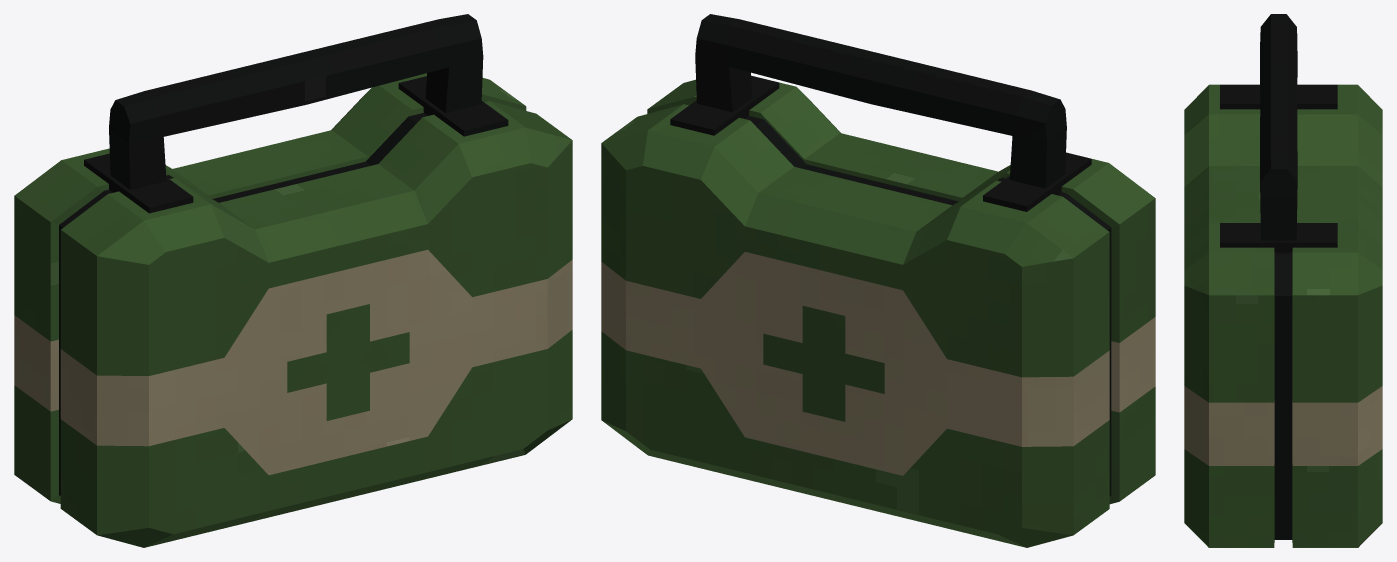
The model's file is item_medkit.glb.
The picture shows the model from 3 angles, left to right: view 1: azimuth 30°, elevation 25°; view 2: azimuth 150°, elevation 25°; view 3: azimuth 270°, elevation 25°; orthographic projection. The views are drawn at different scales.
Parts seen in each view (by area): view 1: Donor_medkit_0; view 2: Donor_medkit_0; view 3: Donor_medkit_0.
Boxes of the visible parts, left/top/right/bottom form: Donor_medkit_0: left=14, top=14, right=572, bottom=547; Donor_medkit_0: left=601, top=14, right=1155, bottom=547; Donor_medkit_0: left=1184, top=14, right=1382, bottom=547.
Size of the model in its own units: 0.3 by 0.25 by 0.12.
Materials: 3 (3 with a texture image).
